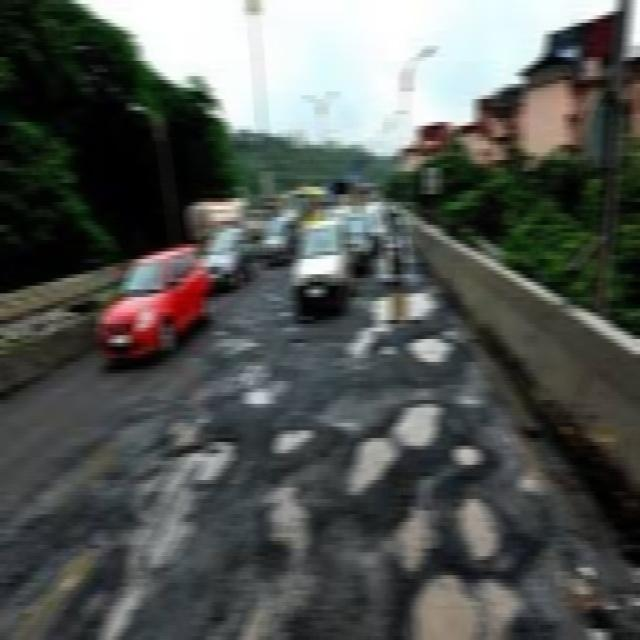Pothole: (48, 434, 240, 640), (226, 477, 326, 640), (0, 527, 105, 640), (392, 570, 532, 640), (557, 561, 640, 640), (446, 485, 516, 561), (339, 428, 402, 501), (380, 502, 439, 568), (385, 395, 447, 450), (368, 286, 441, 324), (396, 329, 458, 369), (265, 420, 317, 462), (242, 373, 298, 410), (345, 315, 392, 359), (451, 443, 490, 473)
